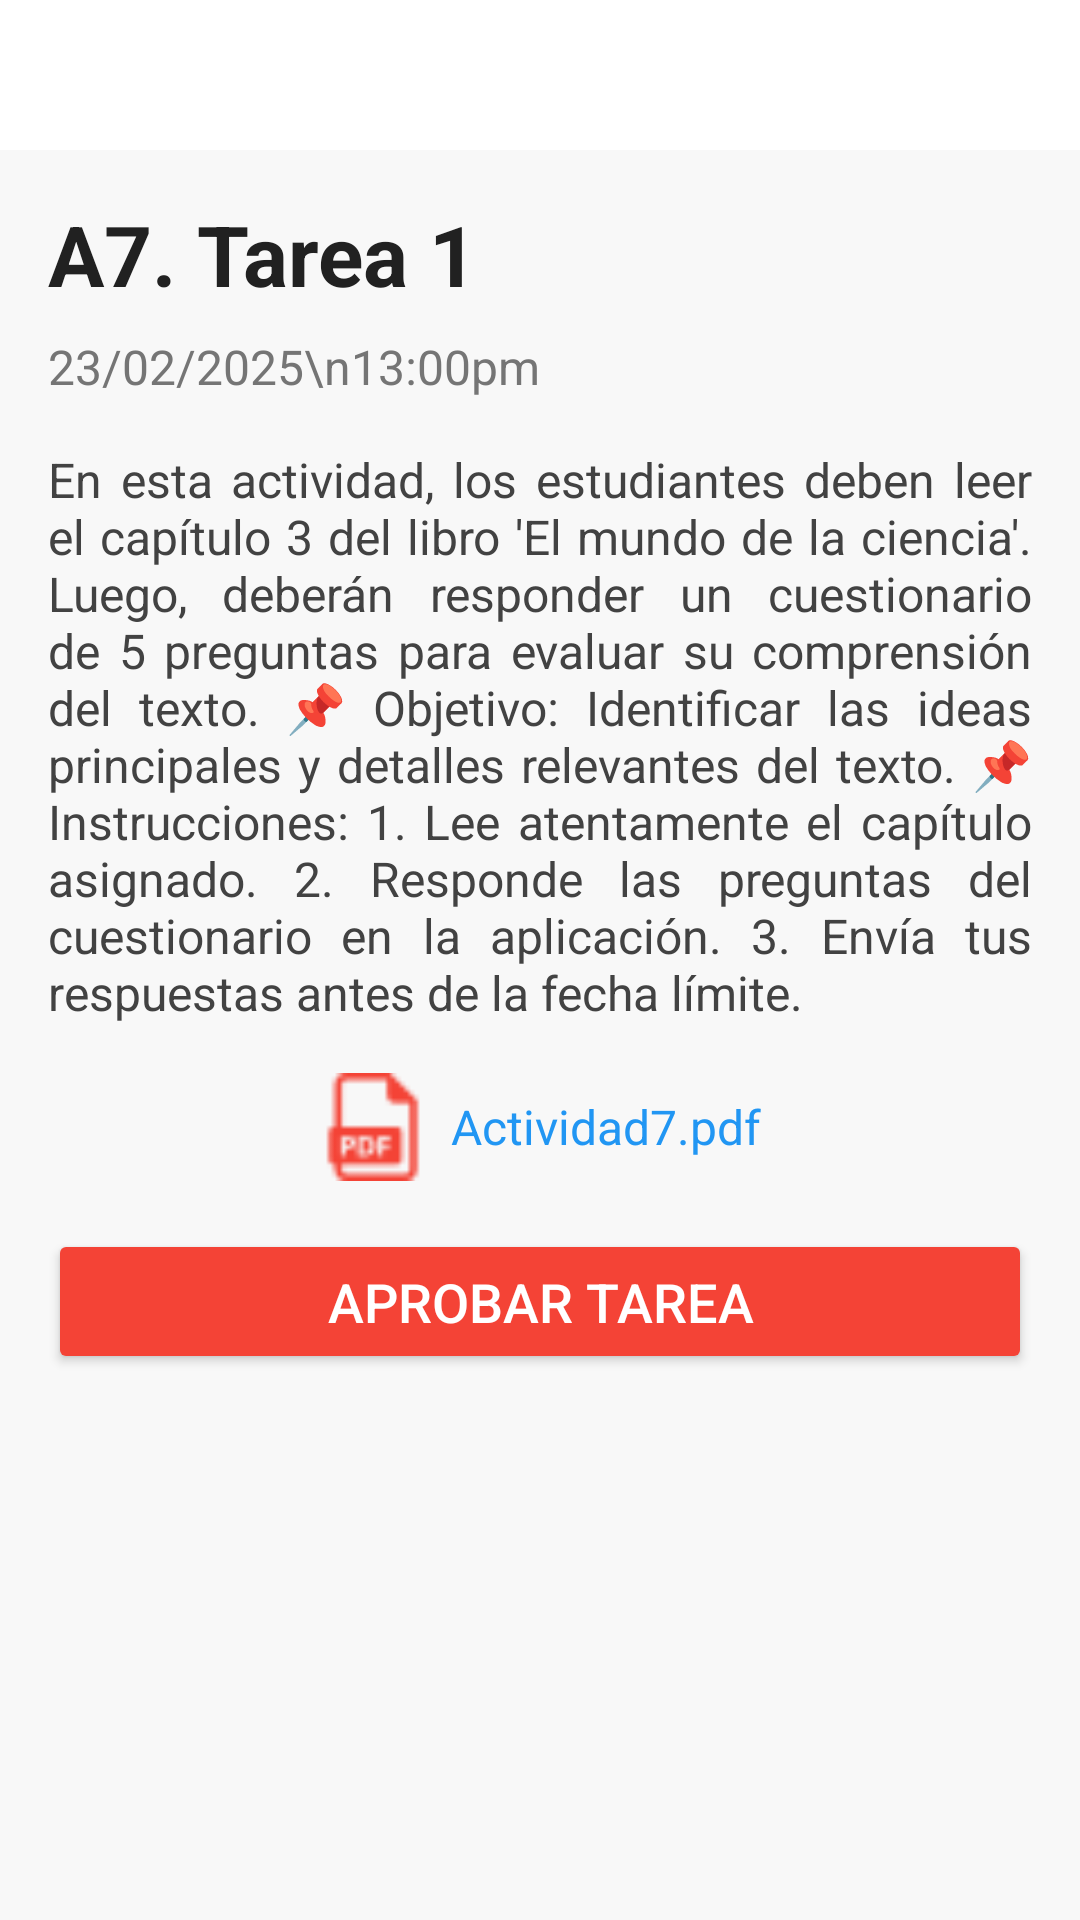

Where to tap for icons on this 1080w x 1920h app screen, as point (x, y):
Archivo PDF: point (373, 1127)
